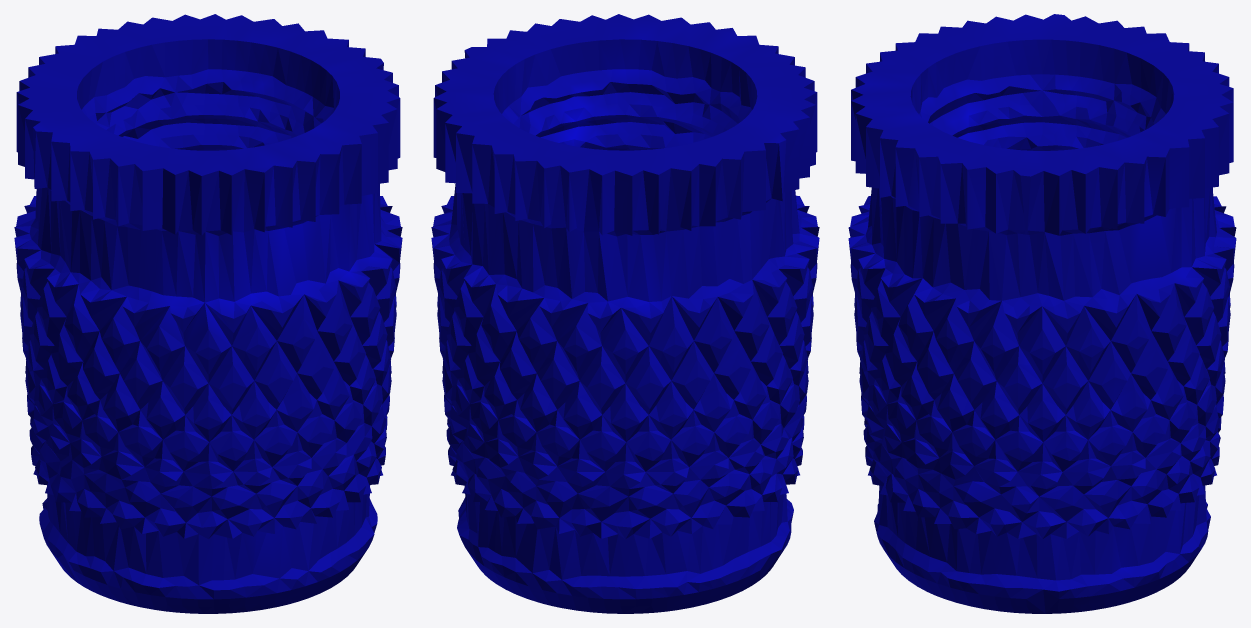
File: fastener.glb
3 renders of one model, left to right at view 1: azimuth 30°, elevation 25°; view 2: azimuth 150°, elevation 25°; view 3: azimuth 270°, elevation 25°, orthographic.
Visible parts, largest first — view 1: genus_1.obj; view 2: genus_1.obj; view 3: genus_1.obj.
Part boxes in pixels (<box>): genus_1.obj: <box>14,14,402,613</box>; genus_1.obj: <box>431,14,819,613</box>; genus_1.obj: <box>848,14,1236,613</box>.
Bounding box in the file's own units: 1.19 × 1.54 × 1.19.
